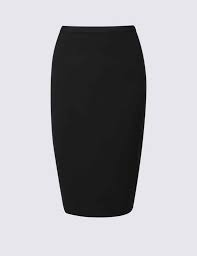F_tailored skirt: (40, 18, 160, 220)
